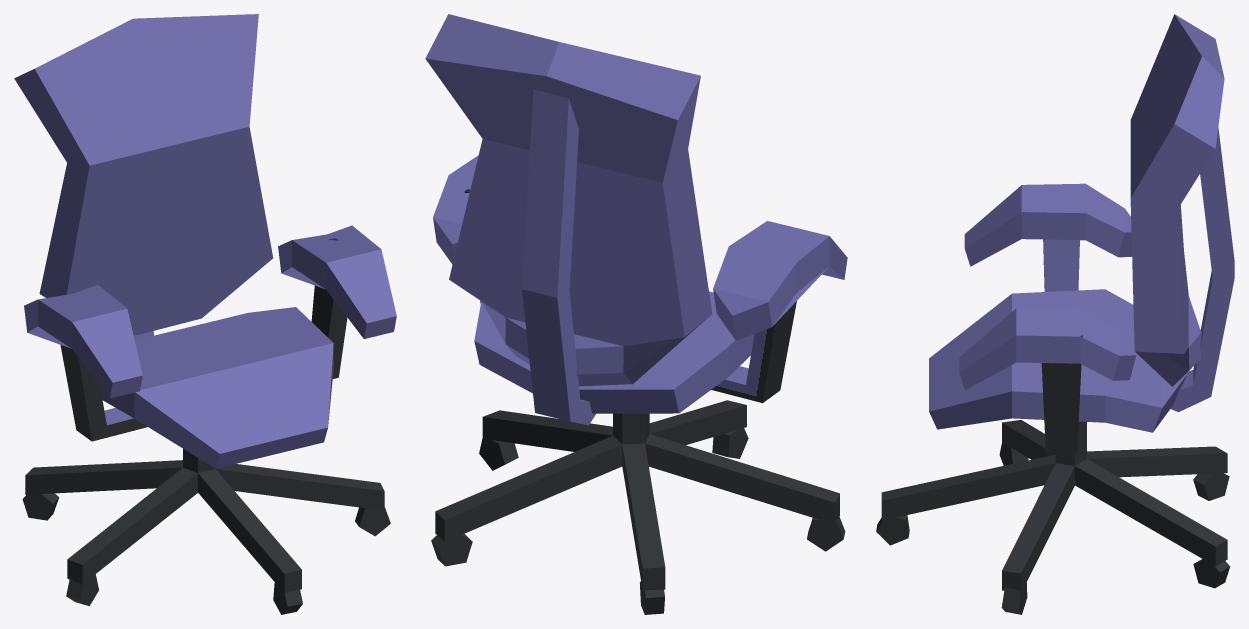
Rendered from ergonomic.glb.
3 views of the same model, side by side, from view 1: azimuth 30°, elevation 25°; view 2: azimuth 150°, elevation 25°; view 3: azimuth 270°, elevation 25° (orthographic). The views are drawn at different scales.
Parts seen in each view (by area): view 1: Ergonomique, Ergonomique.001, Base Wheels.001, Ergonomique.002, Ergonomique.003, Cube.005; view 2: Ergonomique, Base Wheels.001, Ergonomique.001, Ergonomique.002, Cube.005, Ergonomique.003; view 3: Ergonomique, Base Wheels.001, Ergonomique.001, Ergonomique.003, Ergonomique.002, Cube.005.
Boxes of the visible parts, x1,y1,x2,y2 form: Ergonomique: [14, 14, 273, 340]; Ergonomique.001: [100, 307, 333, 468]; Base Wheels.001: [22, 449, 390, 614]; Ergonomique.002: [24, 285, 142, 398]; Ergonomique.003: [278, 225, 396, 338]; Cube.005: [60, 238, 347, 441]; Ergonomique: [425, 14, 712, 425]; Base Wheels.001: [431, 400, 845, 614]; Ergonomique.001: [474, 291, 754, 413]; Ergonomique.002: [713, 221, 847, 340]; Cube.005: [464, 189, 796, 403]; Ergonomique.003: [433, 155, 478, 264]; Ergonomique: [1130, 14, 1234, 412]; Base Wheels.001: [876, 420, 1230, 614]; Ergonomique.001: [929, 289, 1186, 432]; Ergonomique.003: [959, 307, 1136, 389]; Ergonomique.002: [964, 183, 1131, 266]; Cube.005: [1041, 239, 1082, 454].
Bounding box in the file's own units: 4.31 × 6.17 × 4.13.
Materials: 1 (1 with a texture image).
